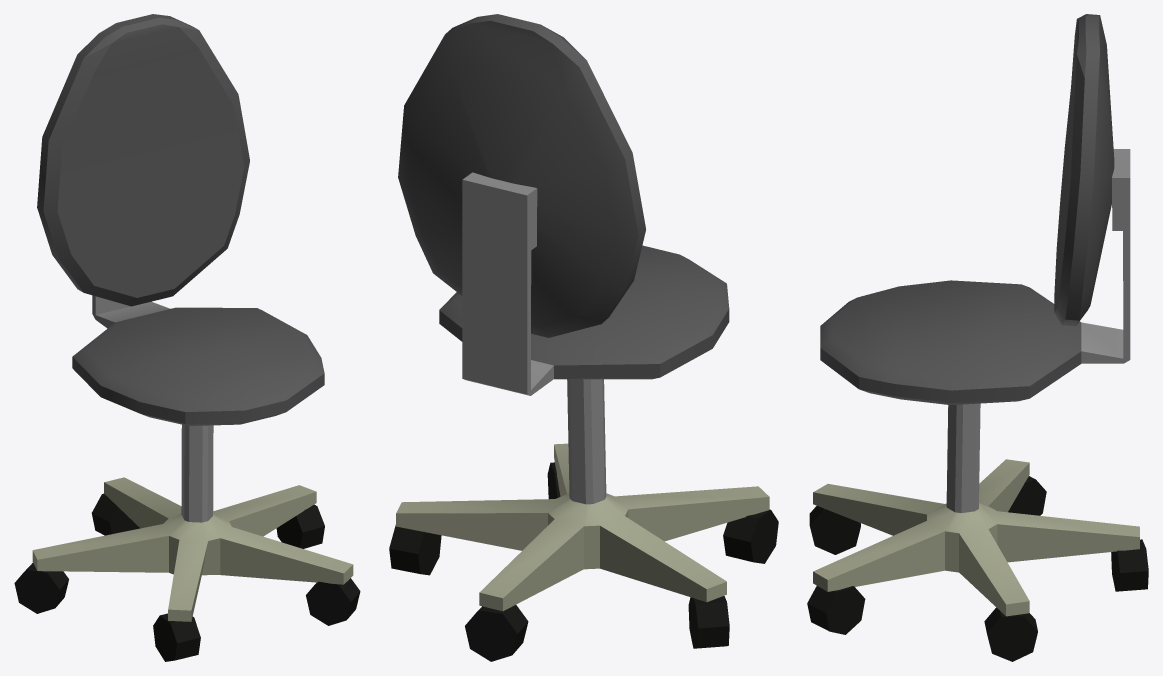
File: MD_Char.FBX
3 views of the same model, side by side, from view 1: azimuth 30°, elevation 25°; view 2: azimuth 150°, elevation 25°; view 3: azimuth 270°, elevation 25° (orthographic). The views are drawn at different scales.
Visible parts, largest first — view 1: MD_Char; view 2: MD_Char; view 3: MD_Char.
Part boxes in pixels (<box>): MD_Char: <box>14,14,360,661</box>; MD_Char: <box>389,14,778,661</box>; MD_Char: <box>807,14,1148,661</box>.
Bounding box in the file's own units: 66.21 × 115 × 62.98.
